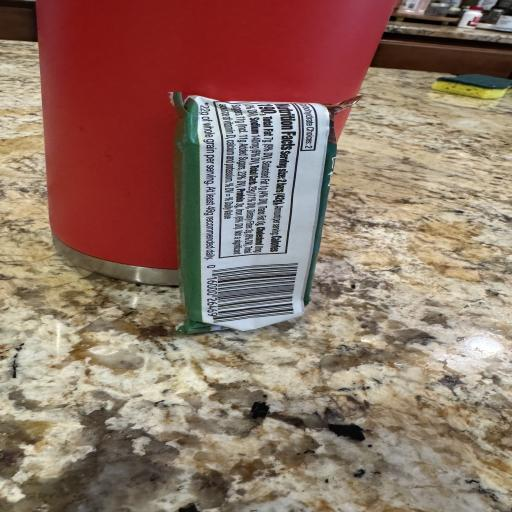granola: (173, 93, 359, 332)
